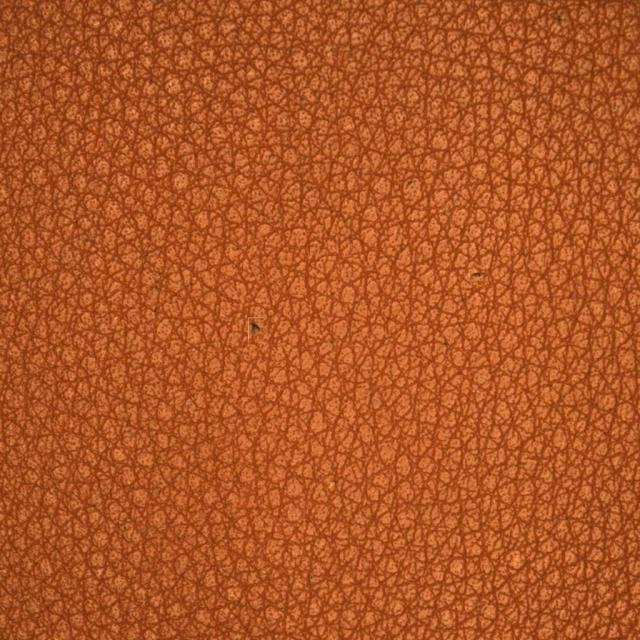Hole: (152, 244, 369, 416)
